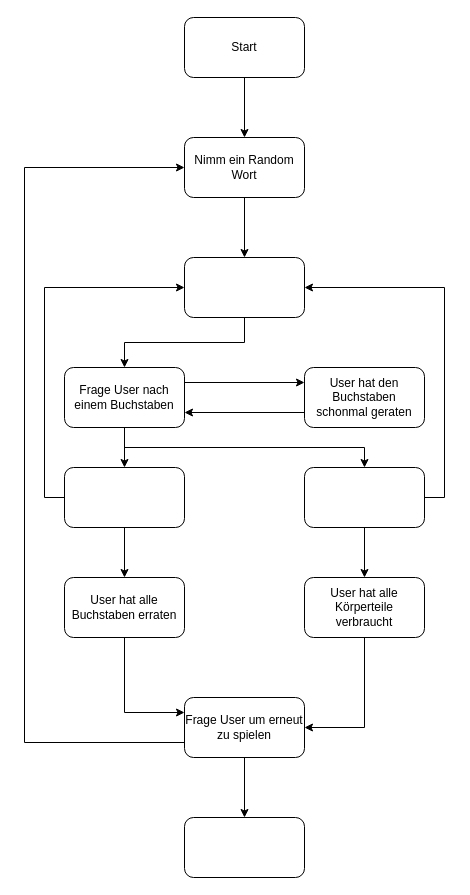
Image size: 470x895. Some labels were removed from this diagram. The shapes that lost their labels are listed below. From the top down, each one's centre as x and y in pixels, then its label:
At pixel 244 287: "Zeige den Hangman mit den Buhstaben die erraten wurden".
At pixel 124 497: "Buchstabe kommt im Wort vor".
At pixel 364 497: "Buchstabe kommt nich im Wort for".
At pixel 244 847: "Ende".
